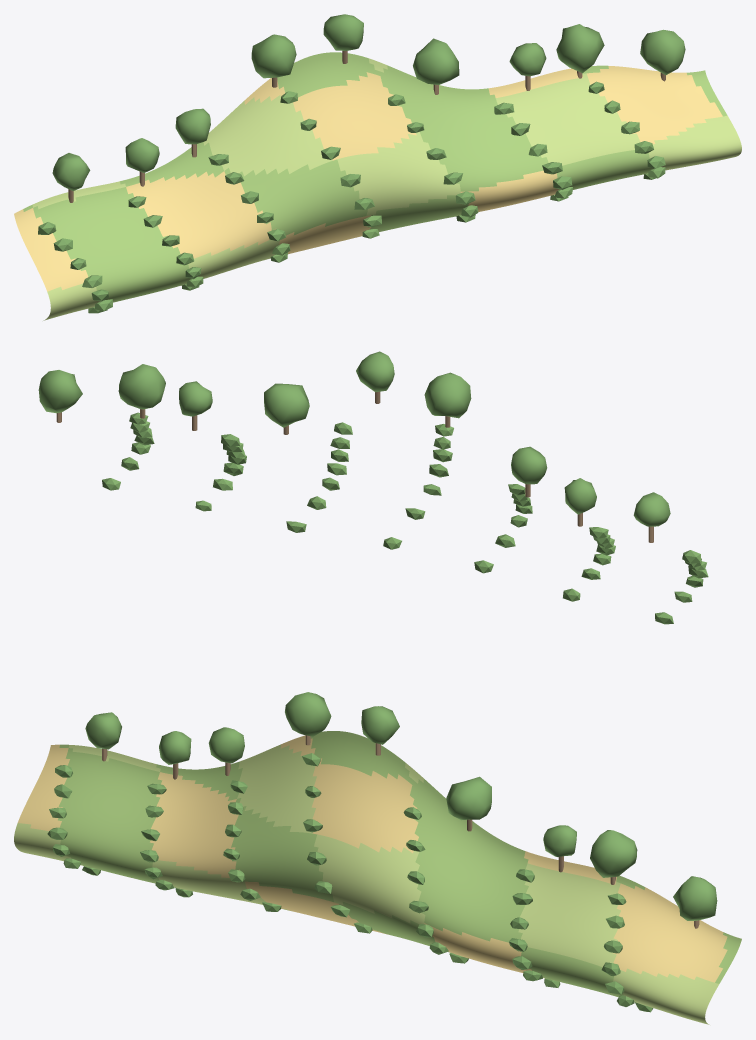
The model's file is bg_hill.glb.
3 renders of one model, top to bottom at view 1: azimuth 30°, elevation 25°; view 2: azimuth 150°, elevation 25°; view 3: azimuth 330°, elevation 25°, orthographic.
Visible parts, largest first — view 1: bg_hill; view 2: bg_hill; view 3: bg_hill.
Boxes of the visible parts, x1,y1,x2,y2 form: bg_hill: [14, 14, 741, 320]; bg_hill: [38, 351, 708, 624]; bg_hill: [14, 692, 741, 1024].
Size of the model in its own units: 12 by 3.78 by 1.57.
